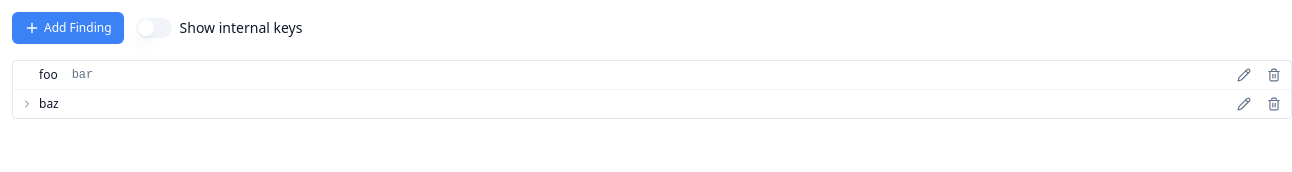
ProjectFindingsTab › filtering › shows internal keys after toggling "Show internal keys"
expect the text "_internal" is not shown: met
Click the switch at [154, 28], box 136,18 -> 172,38
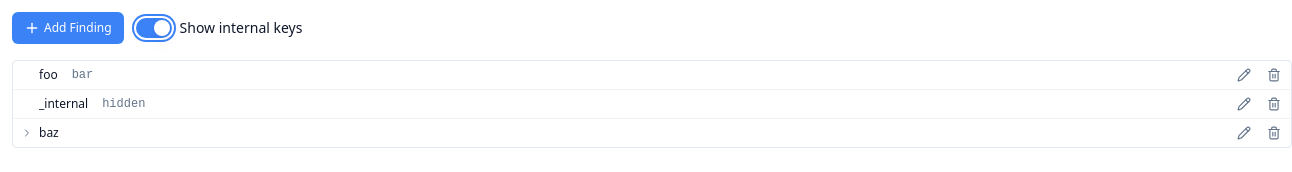
expect the text "_internal" is shown: met, box 39,96 -> 88,112
